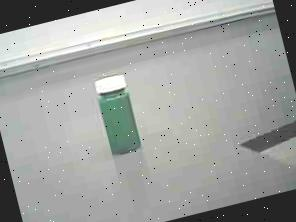Bottle C: (84, 66, 154, 166)
